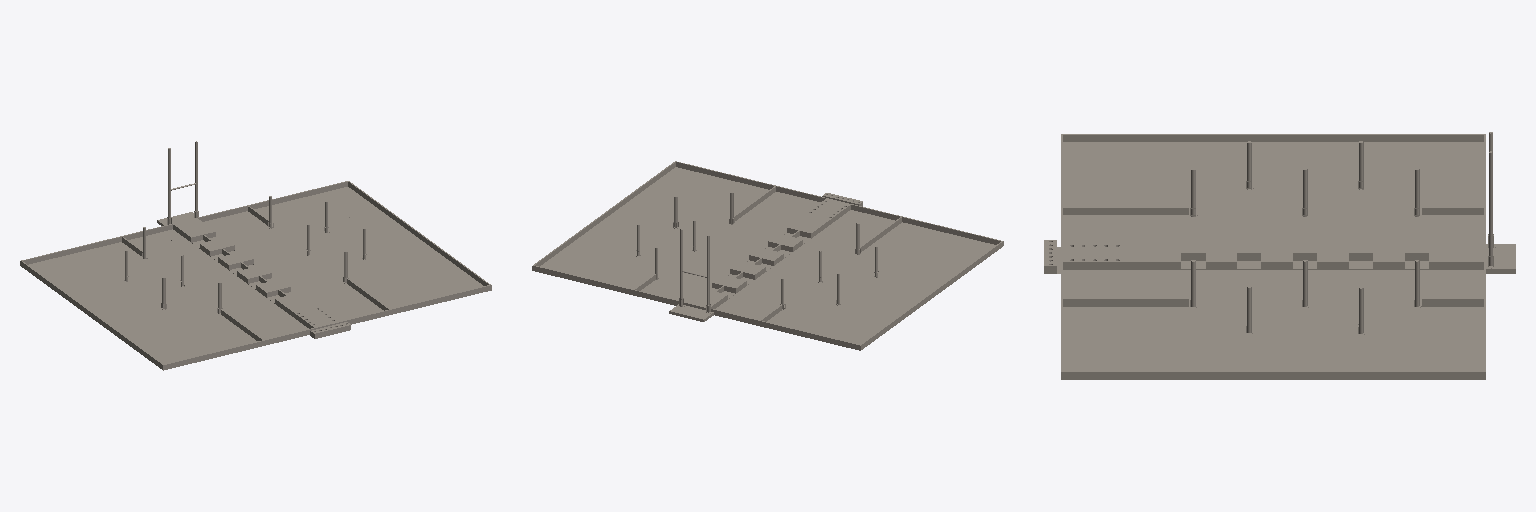
The robot description file, URDF, robot "bot1_description_real":
<?xml version="1.0" encoding="utf-8"?>
<!-- This URDF was automatically created by SolidWorks to URDF Exporter! Originally created by [author] ([email redacted]) 
     Commit Version: 1.5.1-0-g916b5db  Build Version: 1.5.7152.31018
     For more information, please see http://wiki.ros.org/sw_urdf_exporter -->
<robot
  name="bot1_description_real">
  <link
    name="base_link">
    <inertial>
      <origin
        xyz="0.479691730370429 0.588225410102534 0.571810670717185"
        rpy="0 0 0" />
      <mass
        value="20.699196395585" />
      <inertia
        ixx="0.0804877701808731"
        ixy="-2.88375061858065E-05"
        ixz="-5.11896008022177E-05"
        iyy="0.170897838679803"
        iyz="-0.000564030677199464"
        izz="0.112039072409918" />
    </inertial>
    <visual>
      <origin
        xyz="0 0 0"
        rpy="0 0 0" />
      <geometry>
        <mesh
          filename="package://bot1_description_real/meshes/base_link.STL" />
      </geometry>
      <material
        name="">
        <color
          rgba="0.647058823529412 0.619607843137255 0.588235294117647 1" />
      </material>
    </visual>
    <collision>
      <origin
        xyz="0 0 0"
        rpy="0 0 0" />
      <geometry>
        <mesh
          filename="package://bot1_description_real/meshes/base_link.STL" />
      </geometry>
    </collision>
  </link>
</robot>

--- What the picture shows (computed from the rendered views, not written in the file) ---
The picture shows the robot from 3 angles, left to right: view 1: azimuth 30°, elevation 25°; view 2: azimuth 150°, elevation 25°; view 3: azimuth 270°, elevation 25°; orthographic projection.
Robot: bot1_description_real — 1 links, 0 joints (none); root link base_link; default pose: all joints at 0.
Visible links, largest first — view 1: base_link; view 2: base_link; view 3: base_link.
Link boxes in pixels (x1,y1,x2,y2): base_link: (20,141,491,370); base_link: (532,161,1003,350); base_link: (1044,132,1515,379).
Bounding box of the posed robot: 13.4 × 11.2 × 3.11 m (x, y, z).
1 mesh visuals loaded from 1 distinct referenced files (1 binary STL).